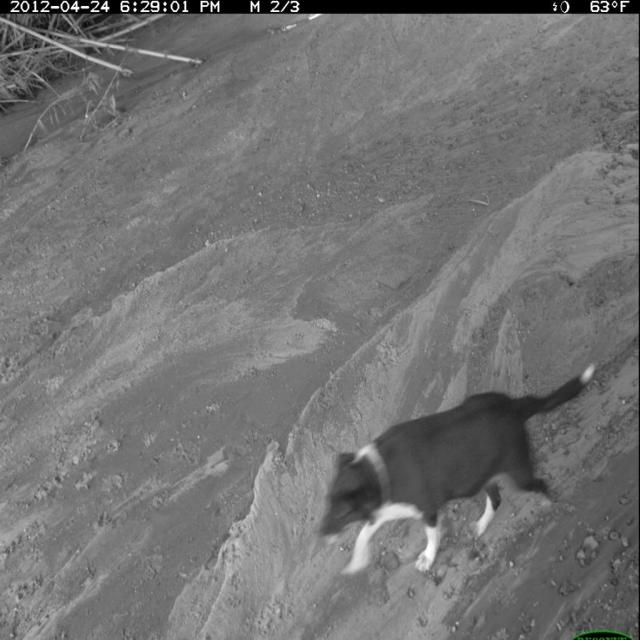dog: (314, 359, 601, 583)
